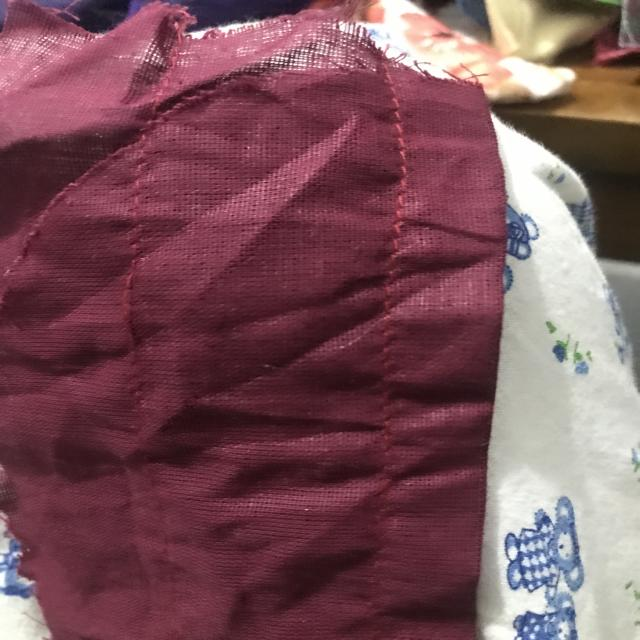good: (373, 288, 410, 377)
skip: (100, 256, 164, 353)
